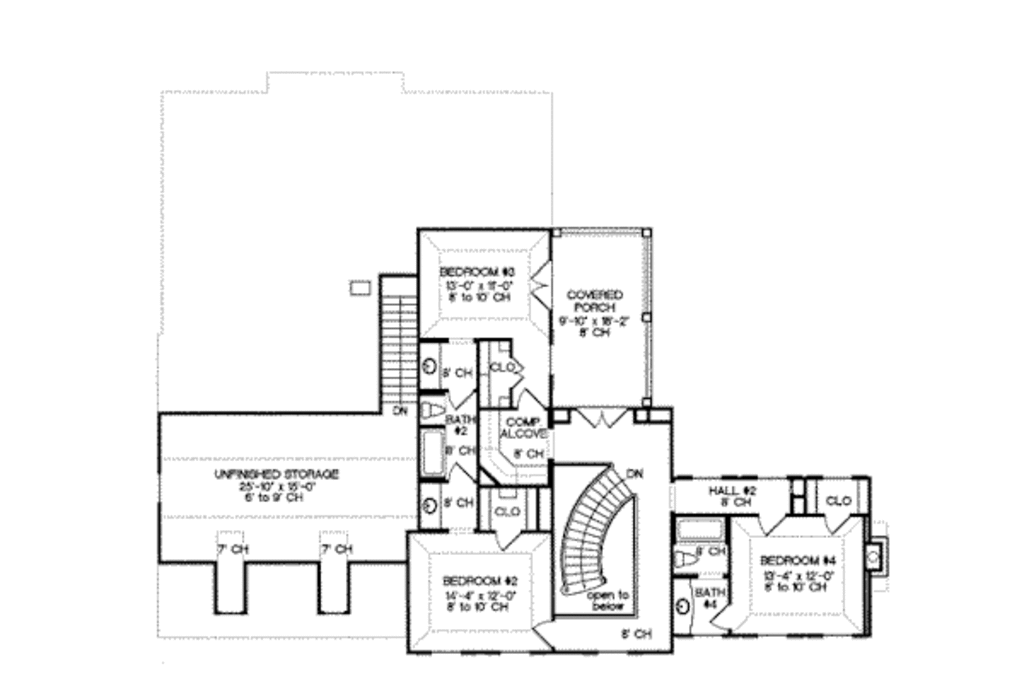door: (572, 404, 631, 434), (529, 260, 556, 317), (750, 511, 795, 541), (526, 614, 556, 650), (706, 597, 734, 634), (444, 457, 475, 485), (822, 508, 850, 536), (447, 384, 475, 411), (493, 529, 525, 552), (512, 387, 548, 406)
large_sink: (673, 542, 700, 574), (419, 392, 445, 422)
small_sink: (418, 481, 445, 532), (674, 575, 696, 636), (420, 340, 442, 389)
stairs: (557, 462, 639, 600), (374, 269, 420, 430)
tub: (673, 517, 727, 545), (421, 425, 446, 481)
